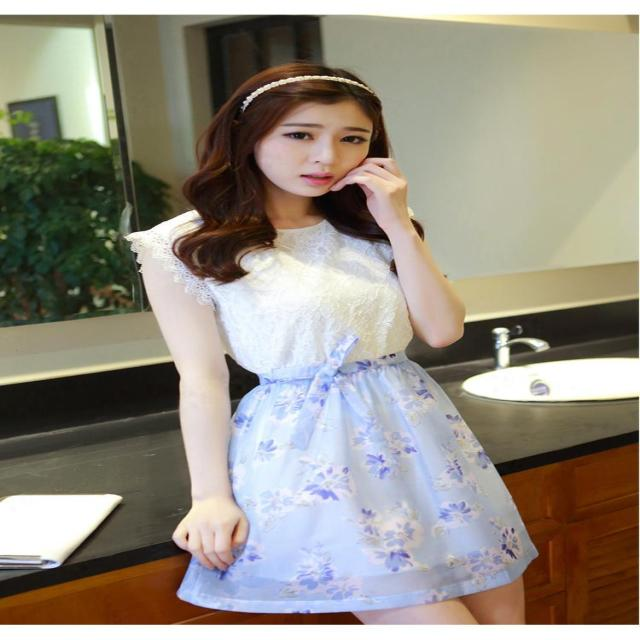vest dress: (126, 191, 540, 610)
